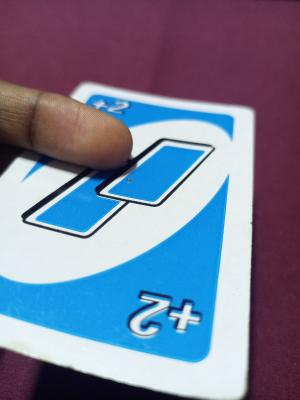-2: (114, 278, 210, 349)
blue: (26, 169, 221, 351)
